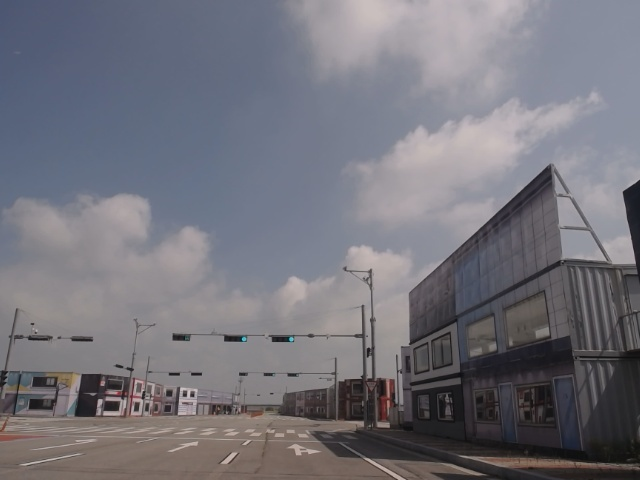straight_green_4: (225, 335, 248, 342), (271, 337, 295, 342)
